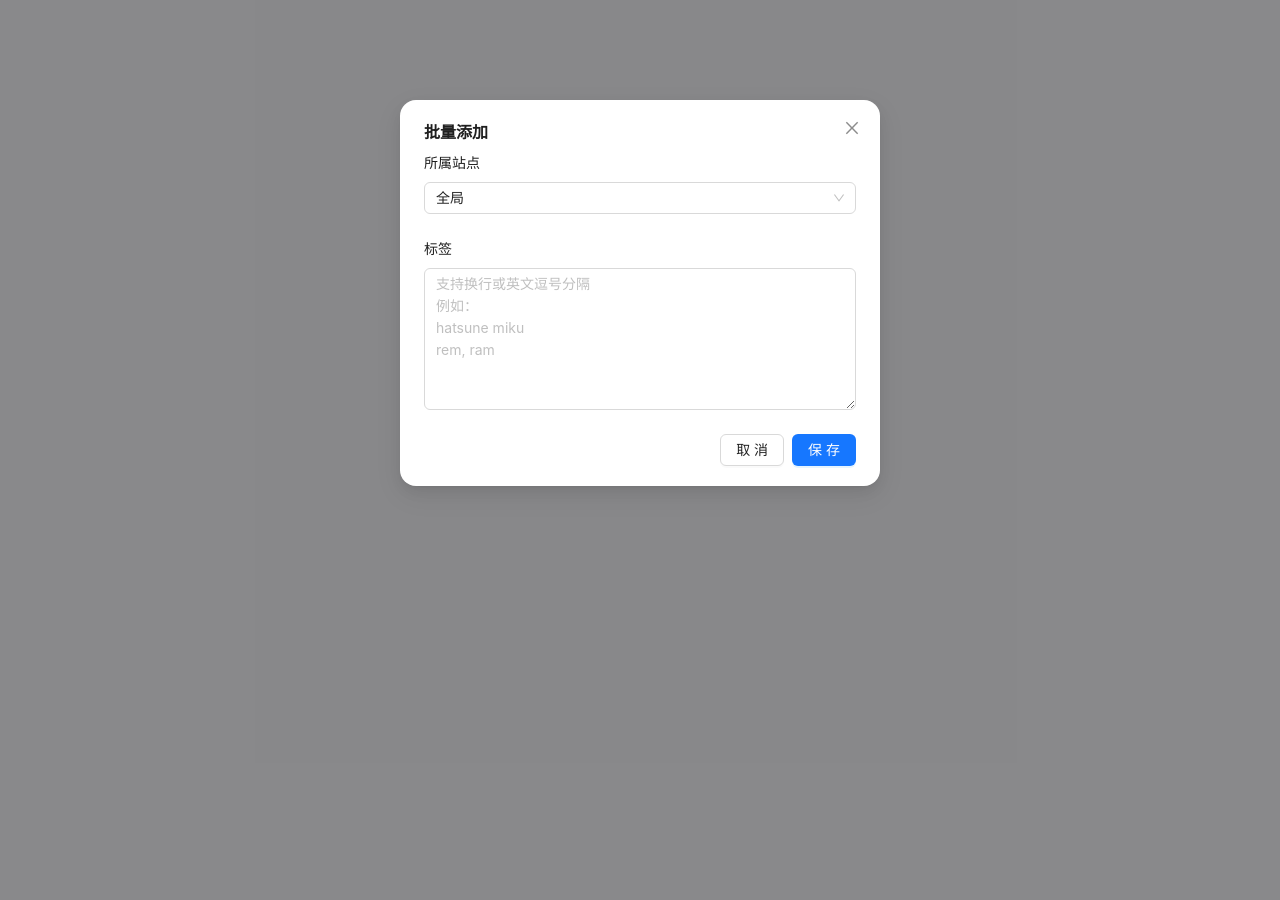
Scenario: BatchTagAddModal › 空 tagNames 阻止提交
The image size is (1280, 900).
Click the button "保 存". click: [824, 450]
box: [792,434,856,466]
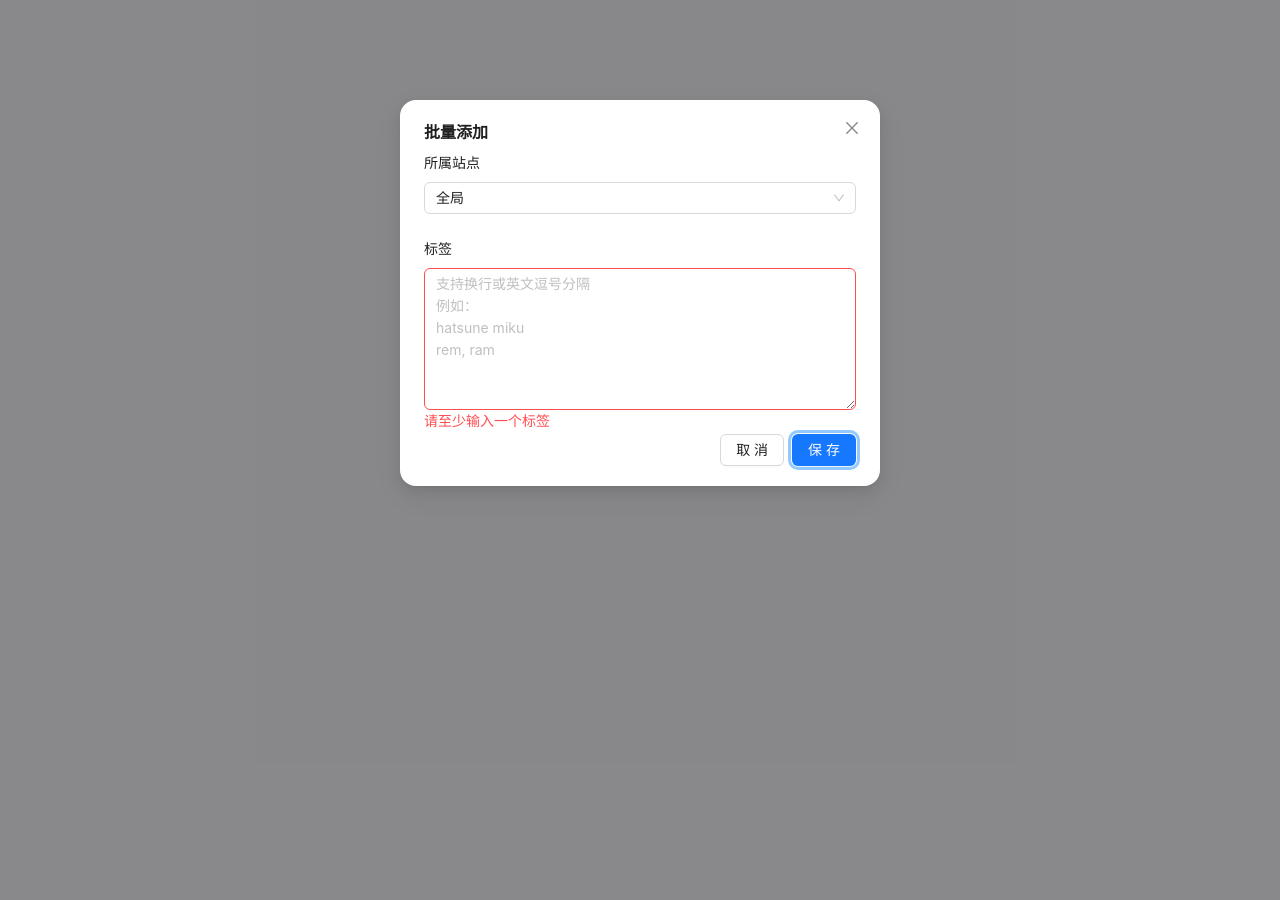
Expected: the text "请至少输入一个标签" is shown, [424,412,550,429]
